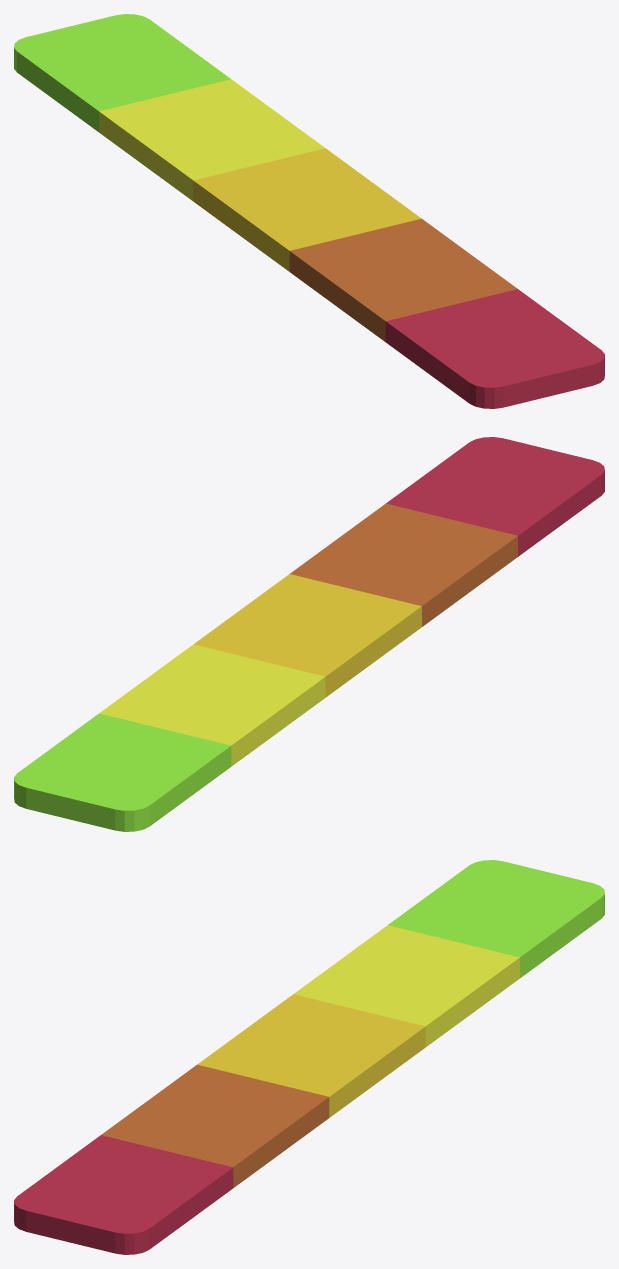
File: End Surface Plane.fbx
3 renders of one model, top to bottom at view 1: azimuth 30°, elevation 25°; view 2: azimuth 150°, elevation 25°; view 3: azimuth 330°, elevation 25°, orthographic.
Visible parts, largest first — view 1: End Surface Plane; view 2: End Surface Plane; view 3: End Surface Plane.
Part boxes in pixels (x1,y1,x2,y2): End Surface Plane: [14, 14, 604, 408]; End Surface Plane: [14, 437, 604, 831]; End Surface Plane: [14, 860, 604, 1254].
Bounding box in the file's own units: 1980 × 302 × 12374.
